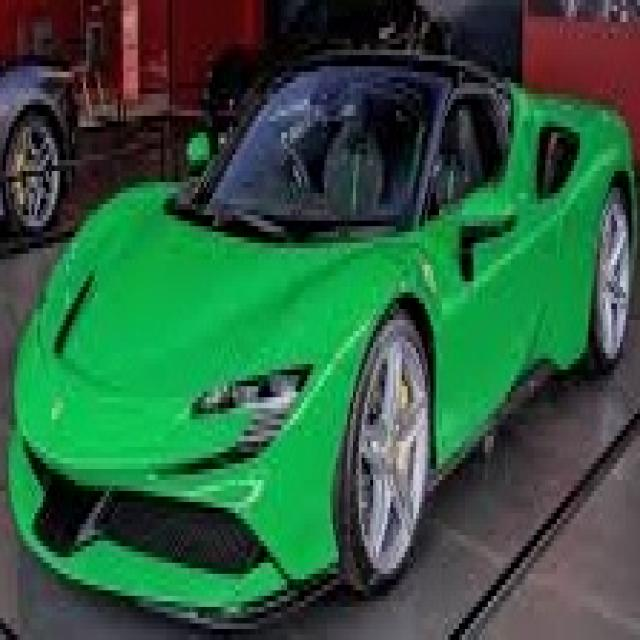green: (0, 38, 635, 634)
